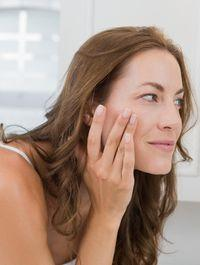Oily-Skin: (133, 55, 177, 78), (139, 107, 159, 132), (147, 153, 171, 172)
